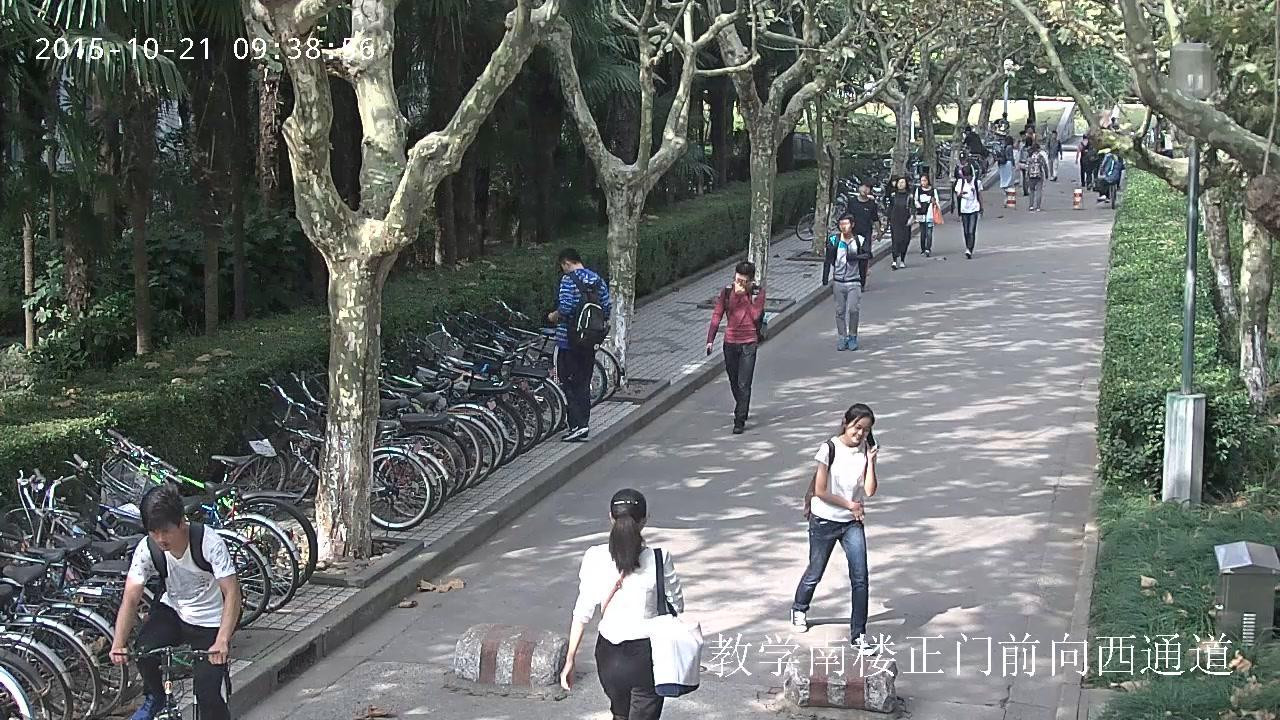face: (149, 522, 180, 550), (847, 413, 870, 444), (734, 272, 749, 290), (839, 218, 850, 233), (859, 185, 867, 196), (897, 178, 904, 188), (920, 175, 927, 185), (562, 262, 565, 272), (891, 180, 896, 186), (964, 174, 970, 178), (1028, 128, 1032, 133), (1051, 133, 1055, 138), (965, 130, 969, 134), (960, 159, 965, 162), (1084, 138, 1087, 142)
